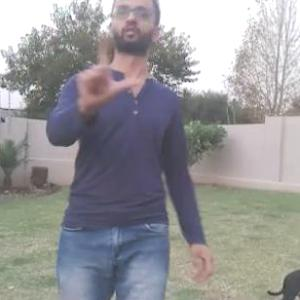land_hand: (70, 34, 141, 114)
